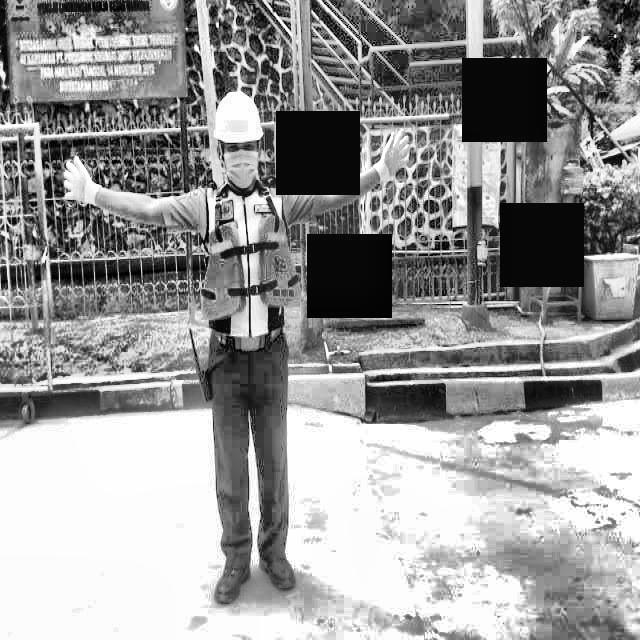safety_helmet: (211, 87, 273, 149)
safety_jacket: (197, 176, 303, 336)
